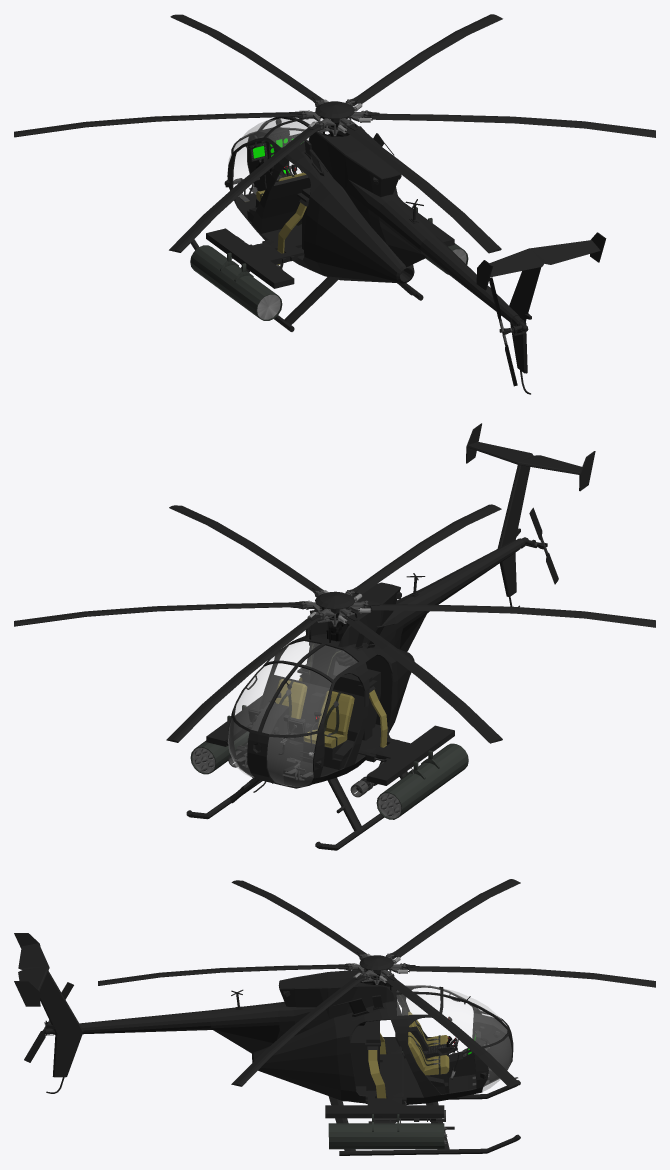
The picture shows the model from 3 angles, top to bottom: view 1: azimuth 30°, elevation 25°; view 2: azimuth 150°, elevation 25°; view 3: azimuth 270°, elevation 25°; orthographic projection. The views are drawn at different scales.
Parts seen in each view (by area): view 1: base_1, helice 1_3, vidrio_0; view 2: base_1, helice 1_3, vidrio_0; view 3: base_1, helice 1_3, vidrio_0, helice 2_2.
Part boxes in pixels (x1,y1,x2,y2): base_1: [190, 117, 606, 394]; helice 1_3: [14, 14, 655, 253]; vidrio_0: [228, 118, 329, 194]; base_1: [186, 423, 595, 850]; helice 1_3: [14, 504, 655, 743]; vidrio_0: [228, 641, 356, 786]; base_1: [14, 933, 520, 1155]; helice 1_3: [98, 879, 655, 1087]; vidrio_0: [397, 985, 511, 1091]; helice 2_2: [24, 982, 73, 1062].
Size of the model in its own units: 8.42 by 3.29 by 11.
Materials: 9 (8 with a texture image).
